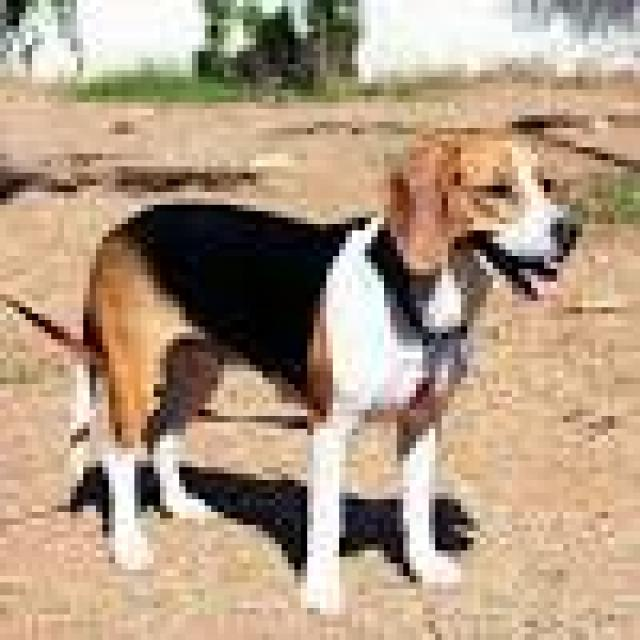Dog: (66, 139, 575, 617)
